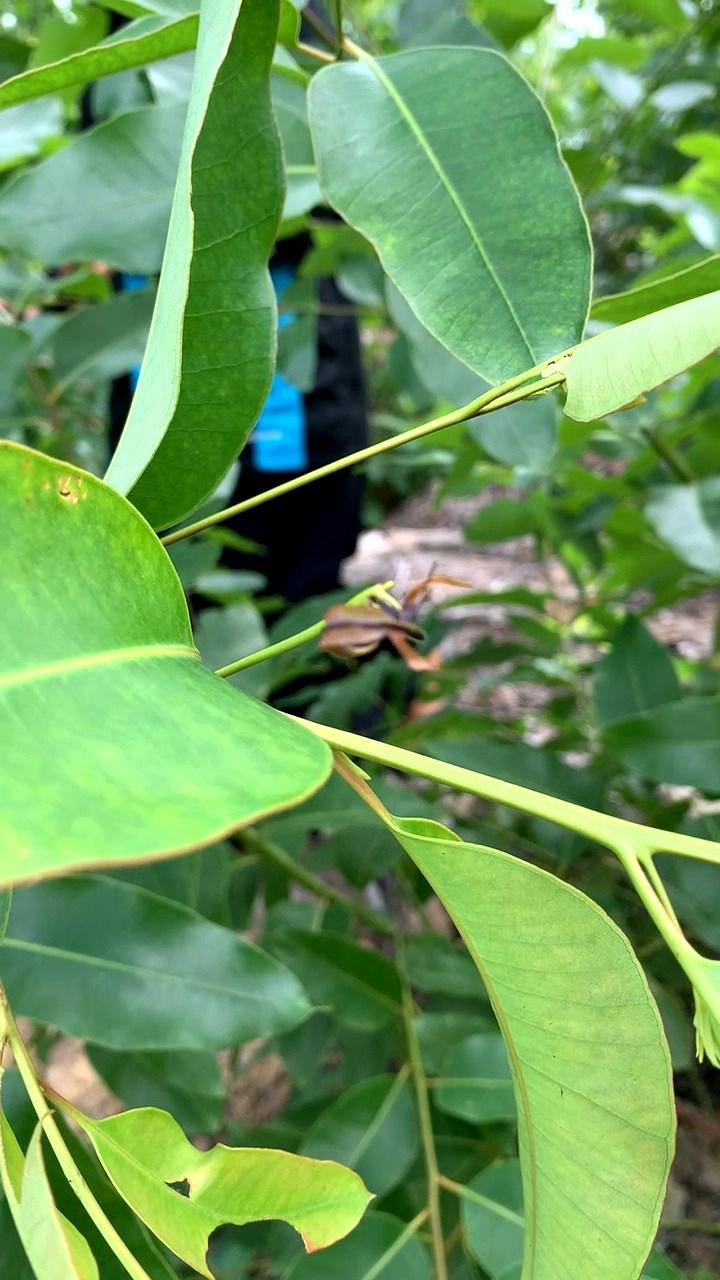Helopeltis-Withered Sprout: (295, 558, 483, 703)
